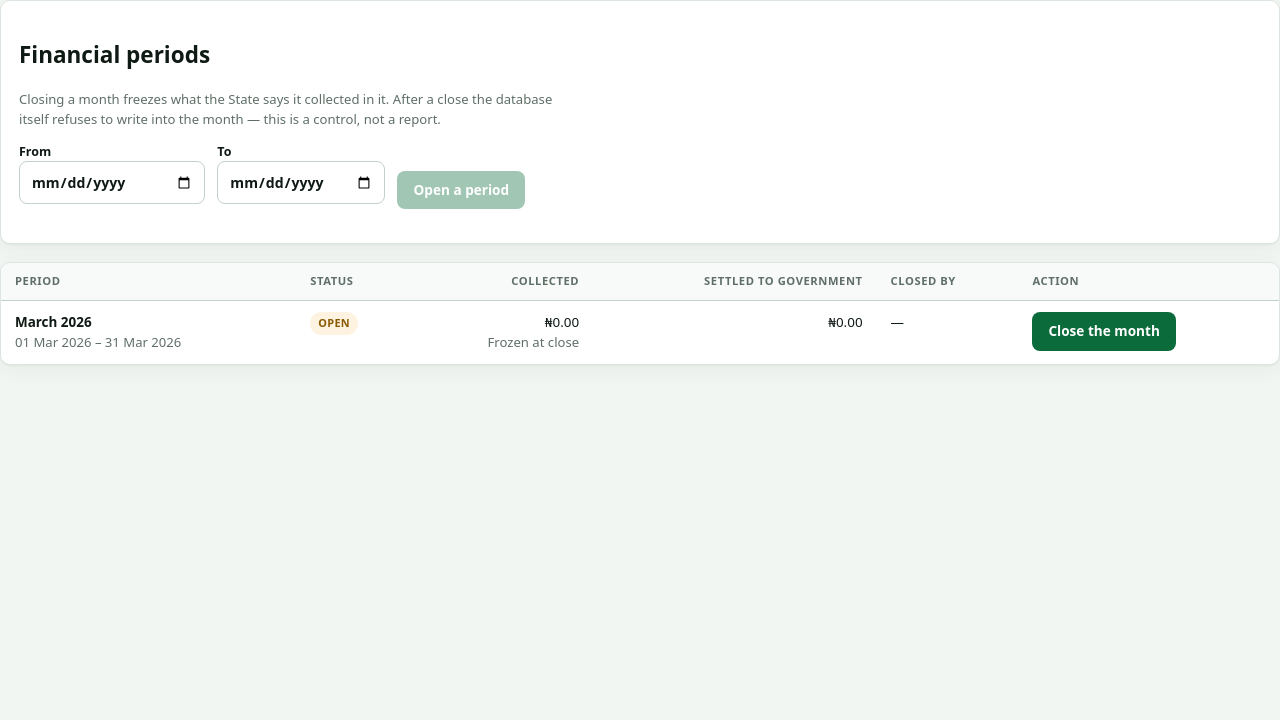
Test: closing a month you cannot see › asks for a reason when nobody can say what the month holds
This screenshot has width=1280, height=720.
Click the button "Close the month".
click(1104, 331)  # box [1032,312,1176,351]
(page scrolled)
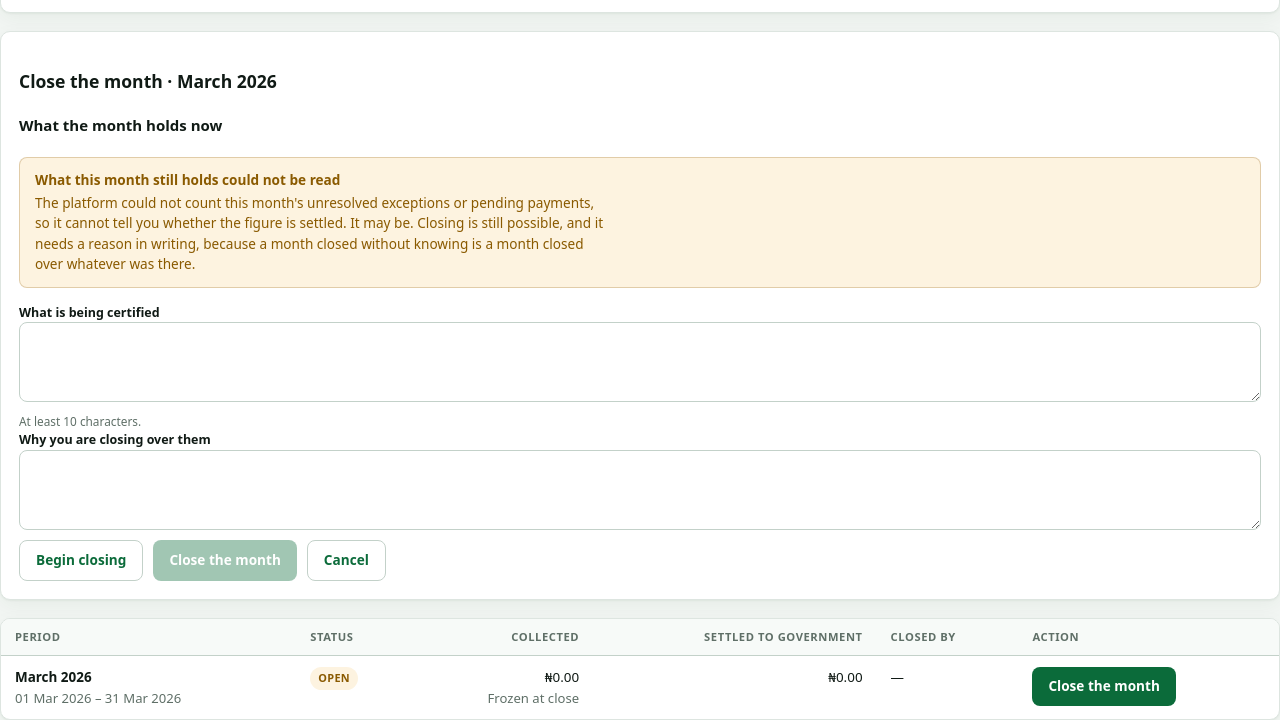
Result: the text box labelled "Why you are closing over them" is shown at [19,450,1261,530]
